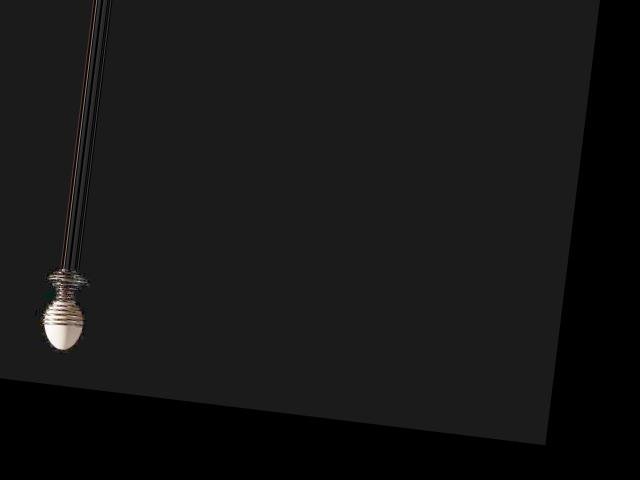egg: (40, 298, 84, 351)
